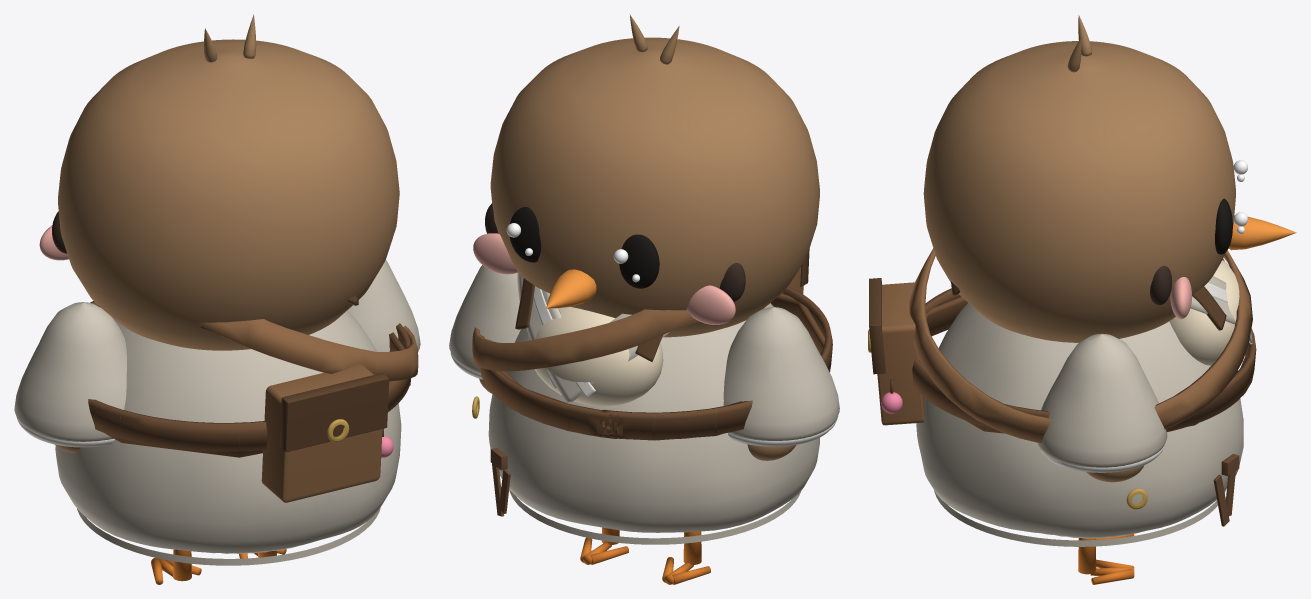
Rendered from maumon-sparrow-lite.glb.
3 views of the same model, side by side, from view 1: azimuth 30°, elevation 25°; view 2: azimuth 150°, elevation 25°; view 3: azimuth 270°, elevation 25° (orthographic). The views are drawn at different scales.
Visible parts, largest first — view 1: head, robe, sleeveL, pack, belt, chestStrap, flap, sleeveR, hem, cuffL; view 2: head, robe, sleeveL, belt, chestStrap, belly, sleeveR, hem, eyeL, cheekL, beak, cheekR (+7 smaller); view 3: head, robe, sleeveR, chestStrap, pack, belt, belly, hem, beak, flap, eyeR, strapR (+4 smaller).
Boxes of the visible parts, x1=… form: head: x1=58, y1=39, x2=399, y2=350; robe: x1=55, y1=310, x2=401, y2=553; sleeveL: x1=14, y1=302, x2=126, y2=441; pack: x1=261, y1=364, x2=382, y2=502; belt: x1=88, y1=301, x2=411, y2=457; chestStrap: x1=196, y1=319, x2=418, y2=381; flap: x1=279, y1=373, x2=389, y2=452; sleeveR: x1=347, y1=260, x2=420, y2=351; hem: x1=77, y1=507, x2=380, y2=565; cuffL: x1=16, y1=417, x2=114, y2=447; head: x1=490, y1=37, x2=819, y2=337; robe: x1=488, y1=303, x2=819, y2=532; sleeveL: x1=723, y1=307, x2=839, y2=440; belt: x1=479, y1=286, x2=832, y2=440; chestStrap: x1=472, y1=305, x2=735, y2=371; belly: x1=527, y1=307, x2=663, y2=406; sleeveR: x1=449, y1=265, x2=520, y2=373; hem: x1=509, y1=489, x2=800, y2=544; eyeL: x1=619, y1=234, x2=659, y2=288; cheekL: x1=686, y1=285, x2=735, y2=324; beak: x1=546, y1=269, x2=596, y2=308; cheekR: x1=473, y1=233, x2=517, y2=274; head: x1=923, y1=41, x2=1235, y2=342; robe: x1=916, y1=303, x2=1243, y2=538; sleeveR: x1=1037, y1=333, x2=1167, y2=467; chestStrap: x1=909, y1=248, x2=1252, y2=443; pack: x1=877, y1=282, x2=924, y2=425; belt: x1=912, y1=288, x2=1256, y2=433; belly: x1=1169, y1=260, x2=1239, y2=365; hem: x1=934, y1=490, x2=1225, y2=546; beak: x1=1228, y1=215, x2=1296, y2=250; flap: x1=869, y1=278, x2=885, y2=374; eyeR: x1=1215, y1=198, x2=1232, y2=254; strapR: x1=951, y1=281, x2=1226, y2=330.
Size of the model in its own units: 1.18 by 1.62 by 1.19.
